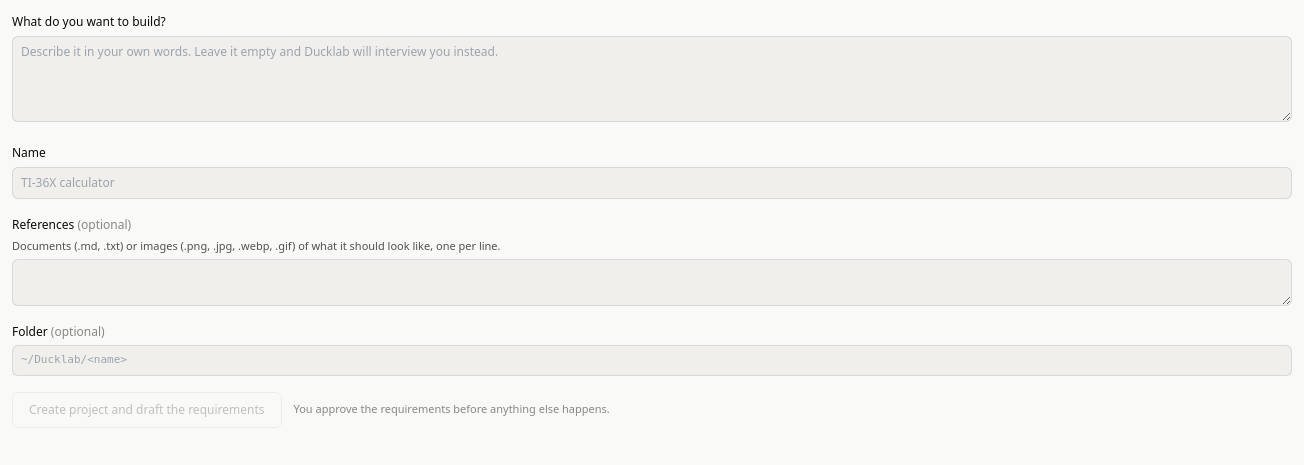
StartProject › refuses a relative or ~ folder before sending, with the fix
This screenshot has width=1304, height=465.
Type "calc" into the field with test id "start-name" at [652, 182], box [12,166,1292,198]
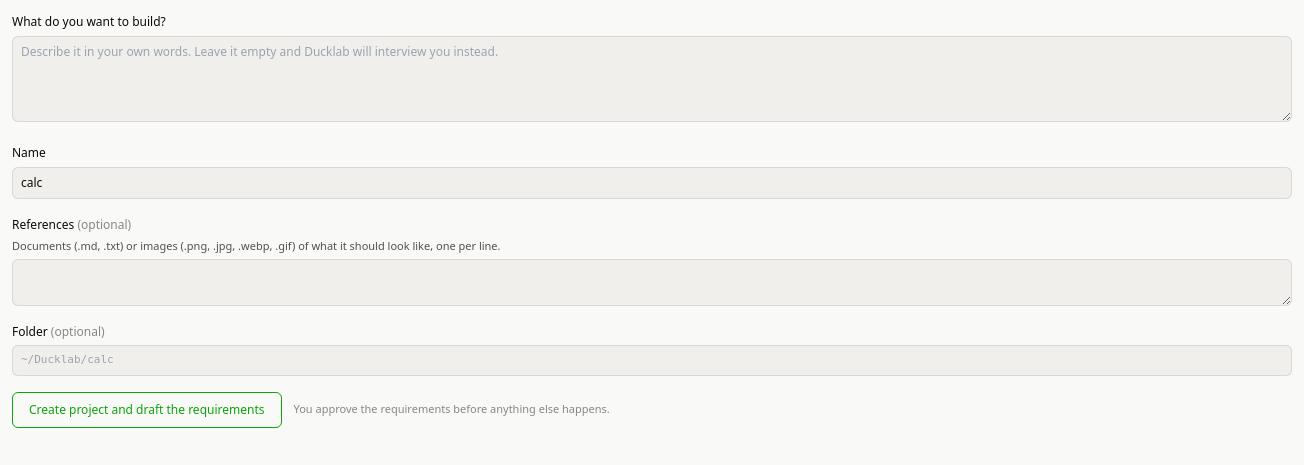
Type "~/code/calc" into the field with test id "start-path" at [652, 360], box [12,345,1292,376]
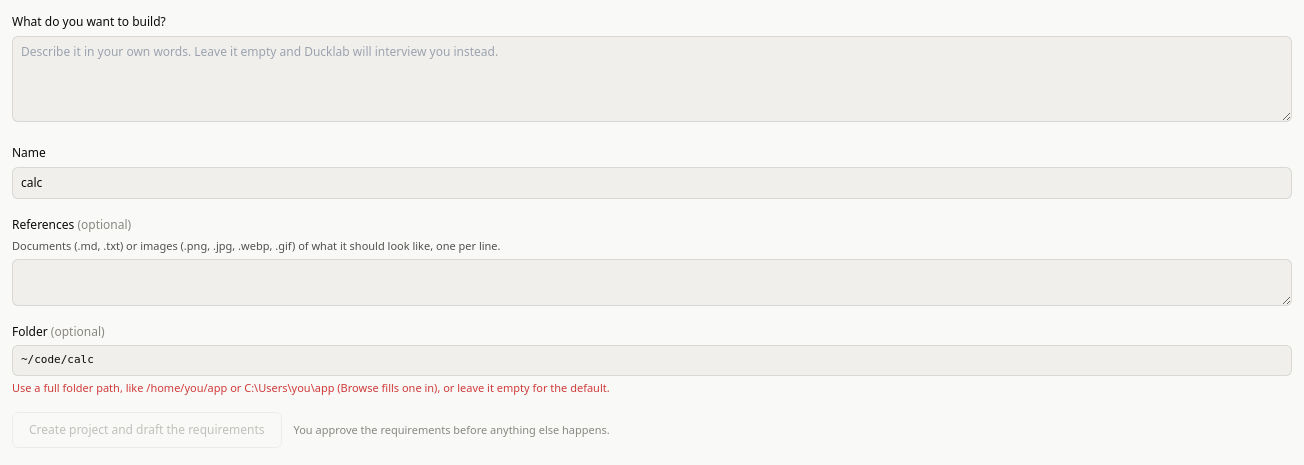
Result: the text with test id "start-path-problem" shows "full folder path" at [12,380,610,394]
Result: the button with test id "start-submit" is disabled at [12,412,282,448]
